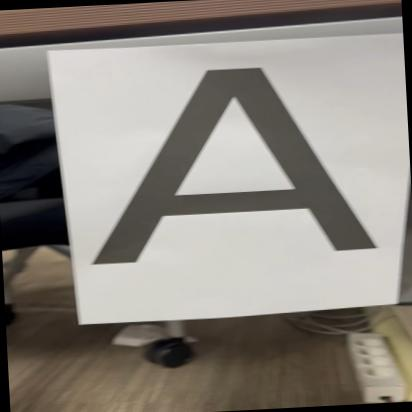seat: (69, 52, 402, 272)
